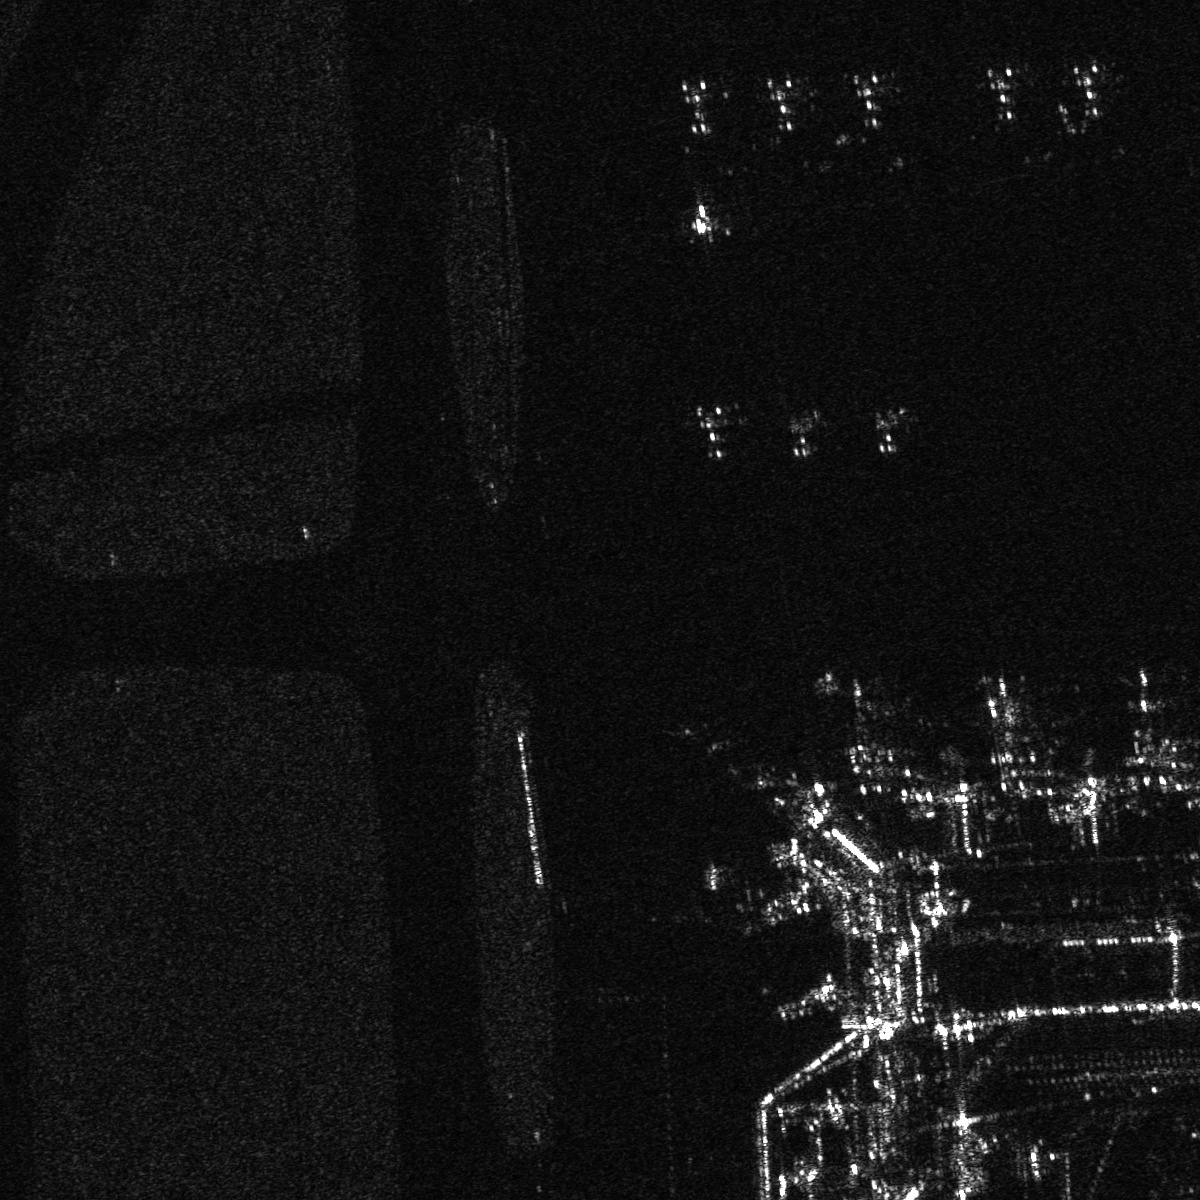A220: (973, 667, 1038, 747), (775, 400, 826, 462)
A320/321: (862, 400, 915, 458)
ARJ21: (676, 396, 745, 464), (673, 192, 727, 248)
Boeing787: (1112, 664, 1179, 737)
other: (1052, 55, 1122, 125), (838, 63, 900, 138), (824, 668, 890, 738), (669, 73, 729, 138), (757, 65, 808, 138), (975, 59, 1024, 129)
